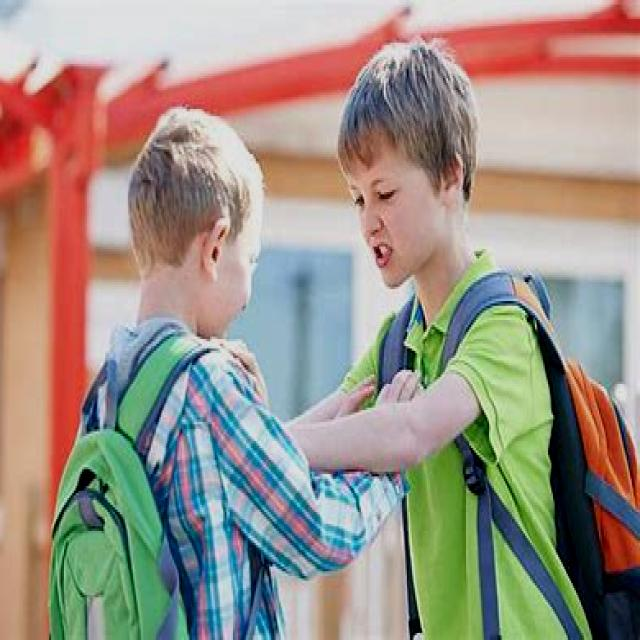fight: (80, 62, 519, 531)
